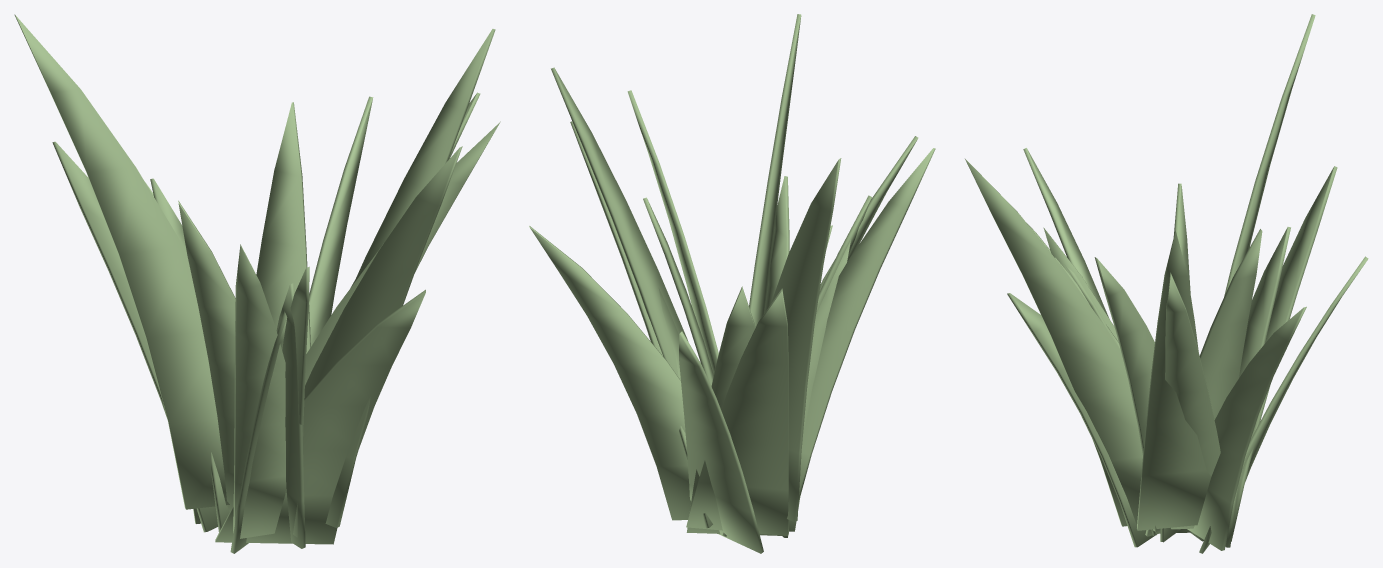
File: agave_2.glb
3 renders of one model, left to right at view 1: azimuth 30°, elevation 25°; view 2: azimuth 150°, elevation 25°; view 3: azimuth 270°, elevation 25°, orthographic. The views are drawn at different scales.
Visible parts, largest first — view 1: agave; view 2: agave; view 3: agave.
Boxes of the visible parts, bbox=[...] form: agave: bbox=[14, 14, 500, 553]; agave: bbox=[529, 14, 935, 553]; agave: bbox=[965, 14, 1368, 553].
Size of the model in its own units: 0.5992 by 0.7269 by 0.5998.
